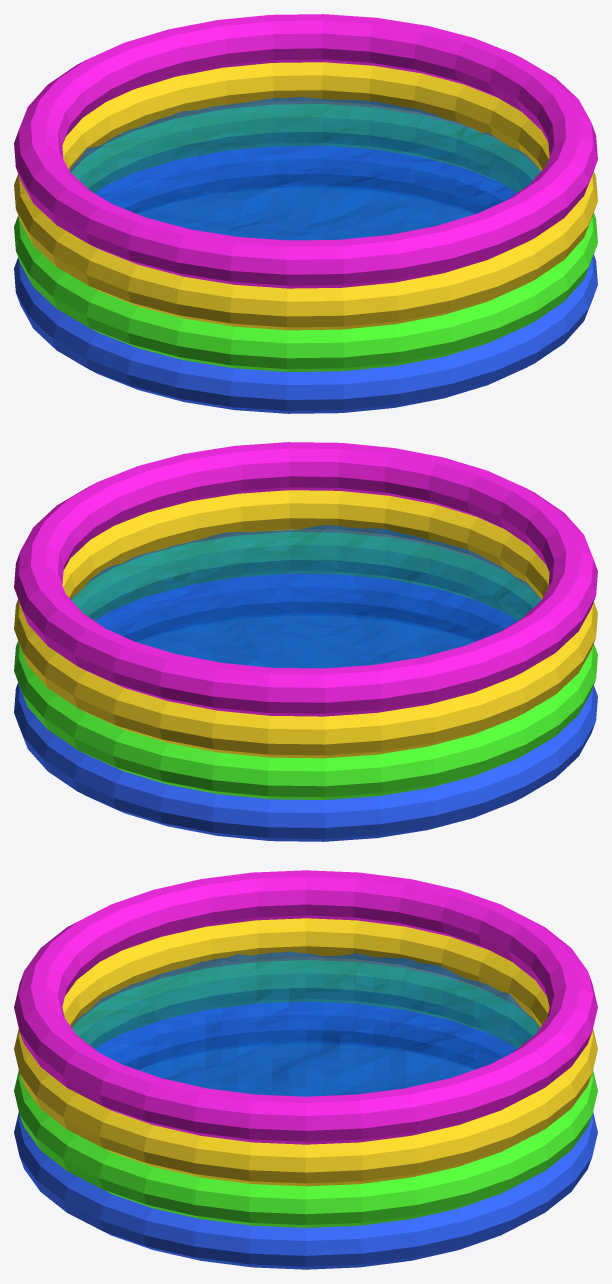
File: round-swimming-pool.obj
3 views of the same model, one above another, from view 1: azimuth 30°, elevation 25°; view 2: azimuth 150°, elevation 25°; view 3: azimuth 270°, elevation 25° (orthographic).
Visible parts, largest first — view 1: rounds_Torus.003, Plane.001, rounds.001_Torus.000, rounds.003_Torus.005, rounds.002_Torus.004, Circle; view 2: rounds_Torus.003, Plane.001, rounds.001_Torus.000, rounds.003_Torus.005, rounds.002_Torus.004, Circle; view 3: rounds_Torus.003, Plane.001, rounds.001_Torus.000, rounds.003_Torus.005, rounds.002_Torus.004, Circle.
Boxes of the visible parts, x1,y1,x2,y2 form: rounds_Torus.003: [14, 14, 597, 288]; Plane.001: [69, 97, 540, 240]; rounds.001_Torus.000: [14, 62, 597, 330]; rounds.003_Torus.005: [14, 104, 597, 371]; rounds.002_Torus.004: [14, 146, 597, 413]; Circle: [136, 186, 474, 240]; rounds_Torus.003: [14, 442, 597, 716]; Plane.001: [71, 525, 541, 668]; rounds.001_Torus.000: [14, 490, 597, 758]; rounds.003_Torus.005: [14, 532, 597, 799]; rounds.002_Torus.004: [14, 574, 597, 841]; Circle: [137, 614, 475, 668]; rounds_Torus.003: [14, 870, 597, 1144]; Plane.001: [71, 951, 540, 1096]; rounds.001_Torus.000: [14, 918, 597, 1186]; rounds.003_Torus.005: [14, 960, 597, 1227]; rounds.002_Torus.004: [14, 1002, 597, 1269]; Circle: [137, 1041, 474, 1096].
Size of the model in its own units: 165 by 51.97 by 165.
